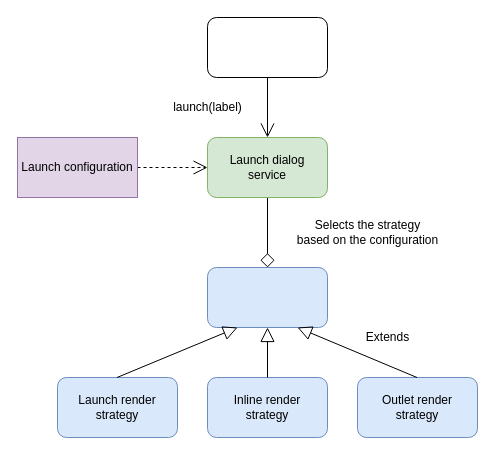
The diagram is 495 pixels wide and 455 high, and some of its shapes have lost their labels. The centre of each missing label's shape, as x and y in pixels:
"Launch trigger" belongs at pixel 267 47.
"Routing render strategy" belongs at pixel 267 297.
